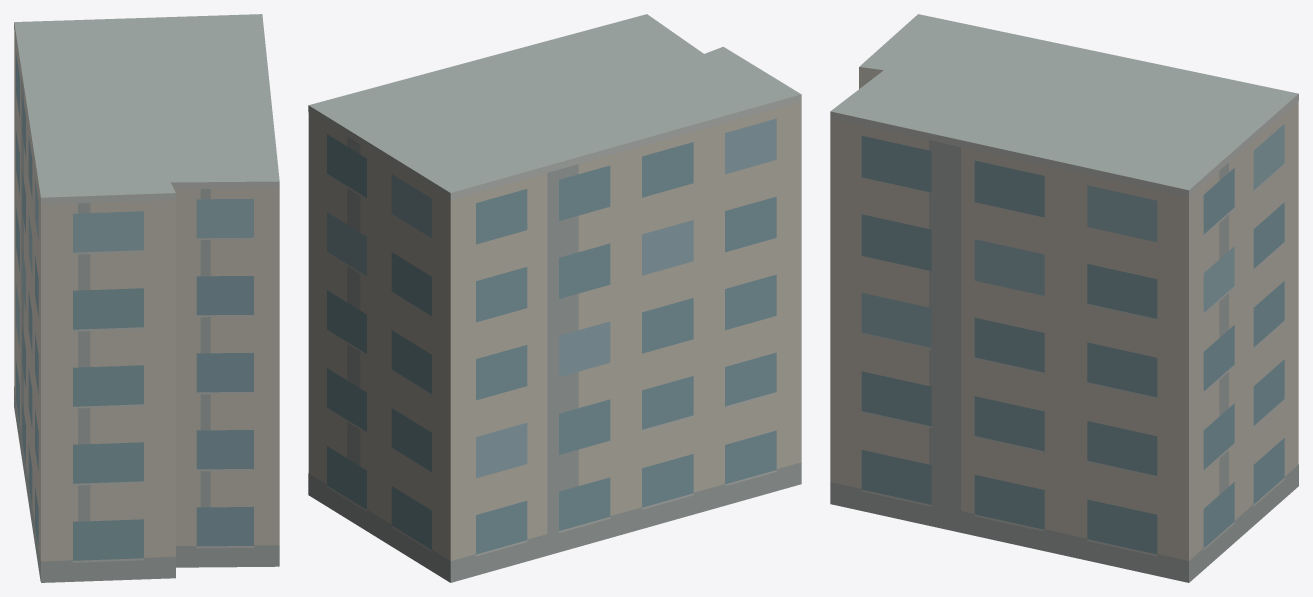
Rendered from survey-upis-32893921.glb.
3 renders of one model, left to right at view 1: azimuth 30°, elevation 25°; view 2: azimuth 150°, elevation 25°; view 3: azimuth 270°, elevation 25°, orthographic.
Visible parts, largest first — view 1: survey-upis-32893921.tmp; view 2: survey-upis-32893921.tmp; view 3: survey-upis-32893921.tmp.
Part boxes in pixels (bbox=[...]): survey-upis-32893921.tmp: bbox=[14, 14, 279, 582]; survey-upis-32893921.tmp: bbox=[308, 14, 801, 582]; survey-upis-32893921.tmp: bbox=[830, 14, 1298, 582].
Size of the model in its own units: 13 by 13.5 by 14.61.
